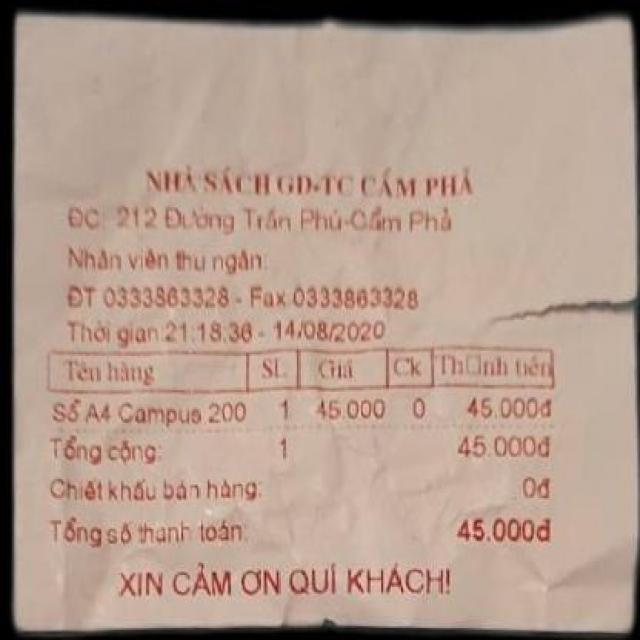Date: (273, 314, 430, 344)
Store_Name: (123, 157, 507, 198)
Total_Amount: (24, 508, 576, 555)
